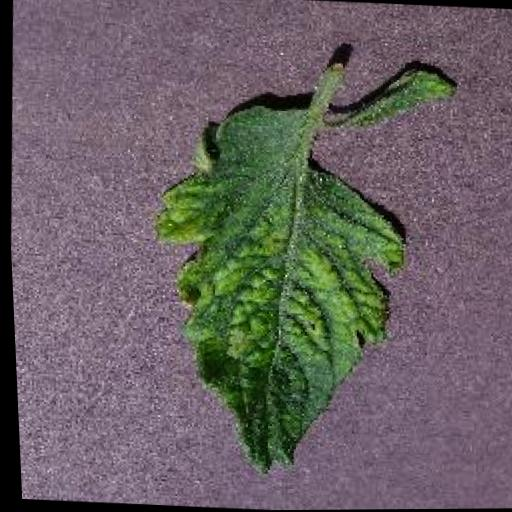Mosaic Virus: (126, 99, 426, 487), (336, 59, 468, 136)
